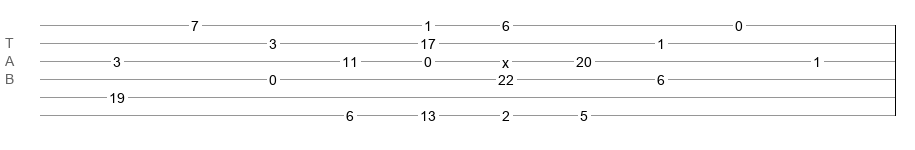0: (269, 72, 277, 82), (424, 54, 432, 64), (735, 18, 743, 28)
1: (424, 18, 432, 28), (657, 36, 665, 46), (813, 54, 821, 64)
11: (342, 54, 358, 64)
13: (420, 108, 436, 118)
17: (420, 36, 436, 46)
19: (109, 90, 125, 100)
2: (502, 108, 510, 118)
20: (576, 54, 592, 64)
22: (498, 72, 514, 82)
3: (113, 54, 121, 64), (269, 36, 277, 46)
5: (580, 108, 588, 118)
6: (346, 108, 354, 118), (502, 18, 510, 28), (657, 72, 665, 82)
7: (191, 18, 199, 28)
x: (502, 55, 509, 63)
